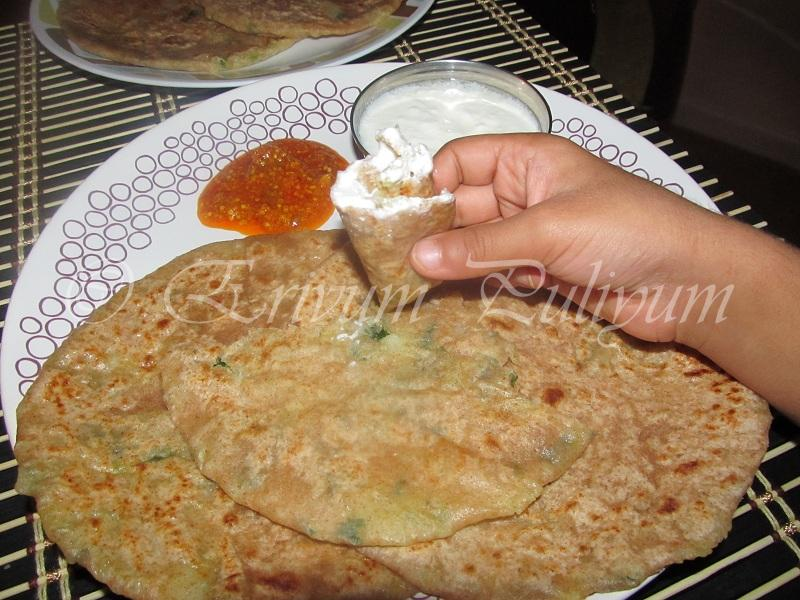aloo_paratha: (11, 228, 792, 600)
